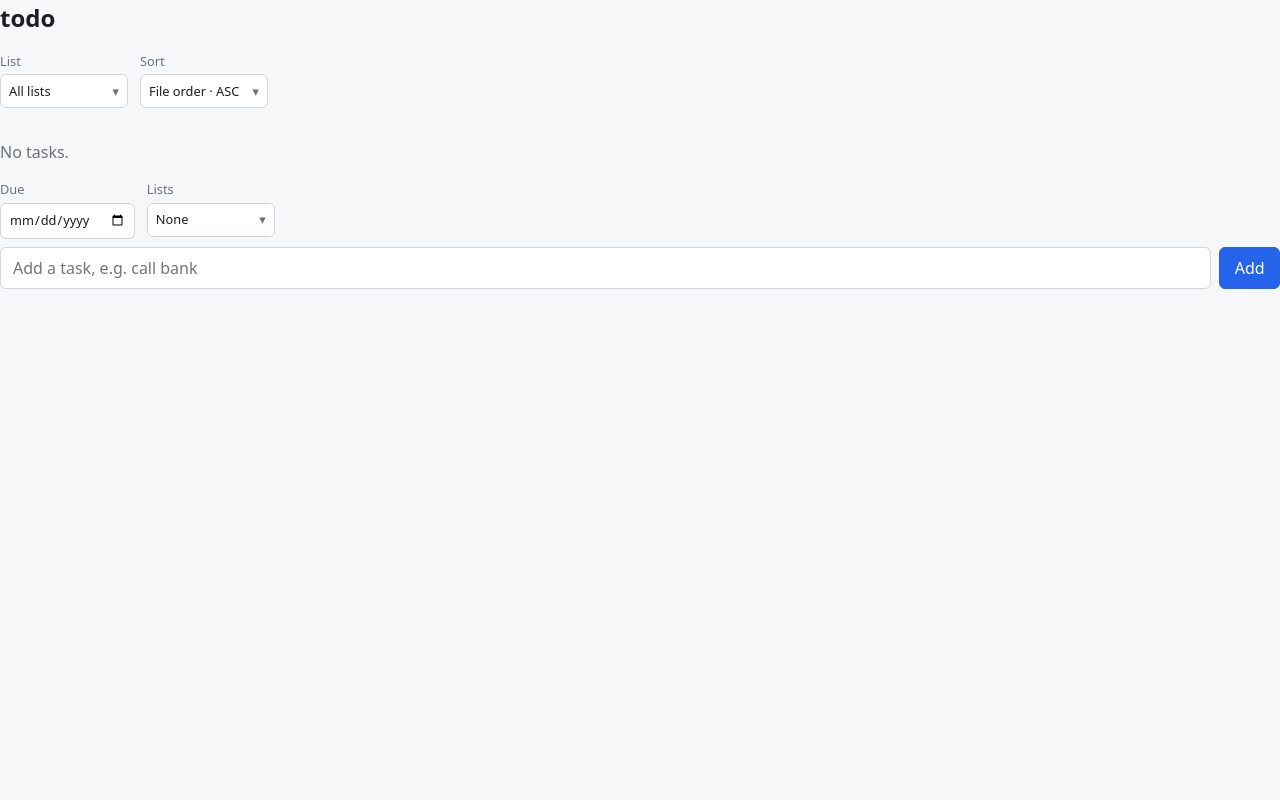
TodoPane removal glue › retains visible content when an update fails
The image size is (1280, 800).
Click the button with aria-label "list filter": (64, 91) top-left (0, 74), bottom-right (128, 108)
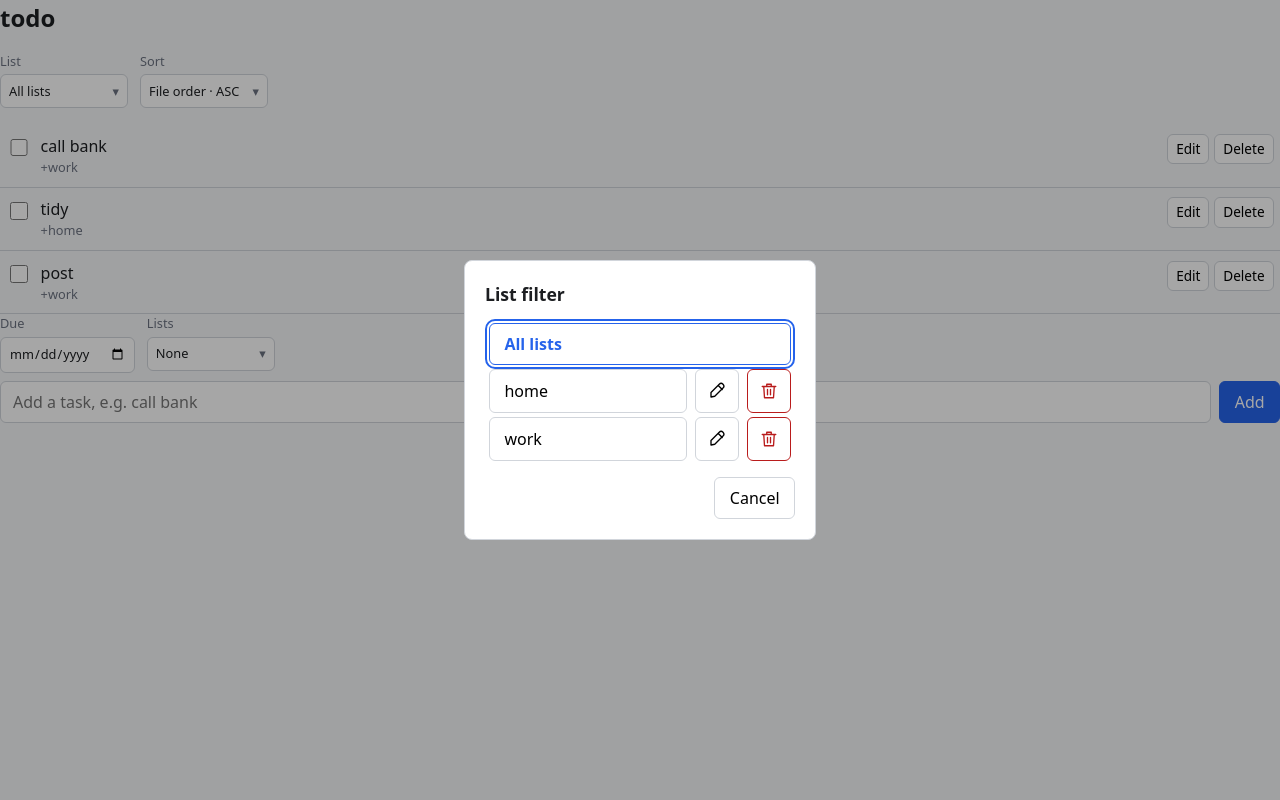
Click the button named "Remove work": (769, 439) top-left (747, 417), bottom-right (791, 461)
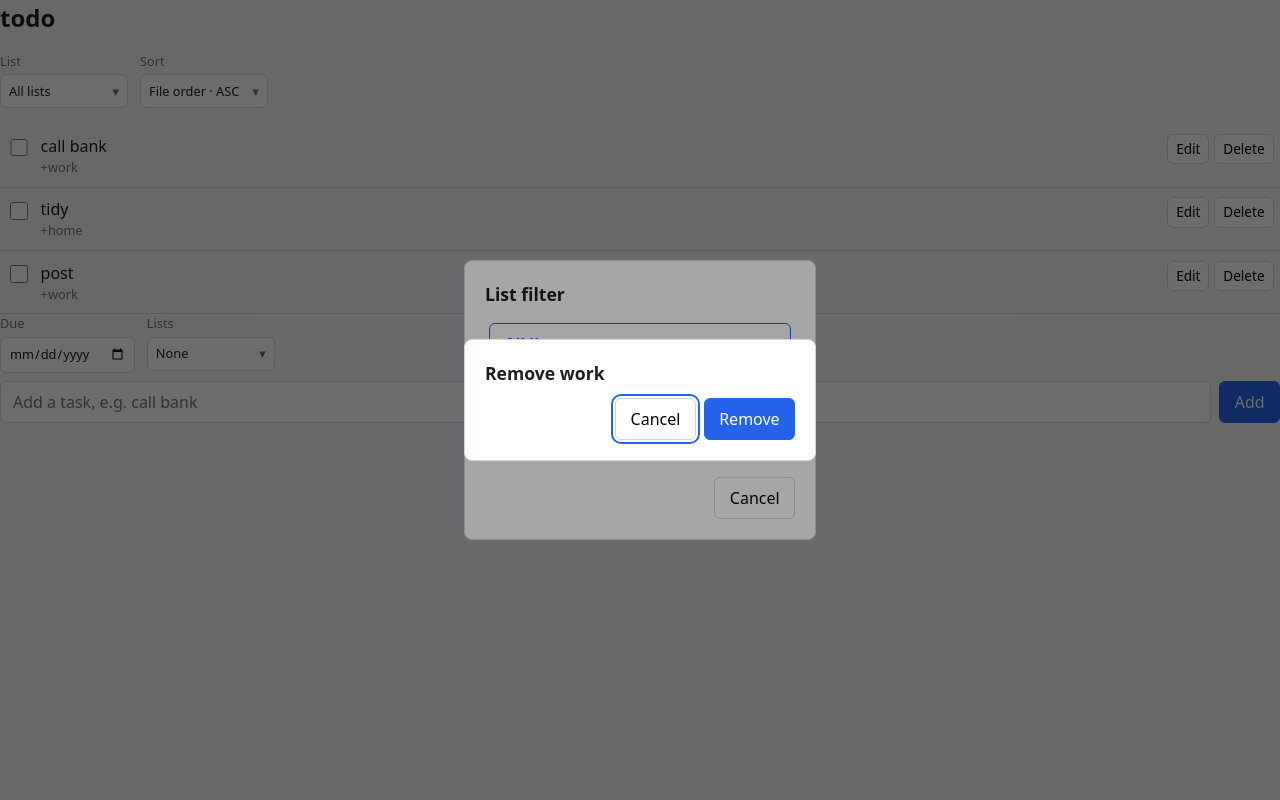
Click the button "Remove": (749, 419) top-left (704, 398), bottom-right (795, 440)
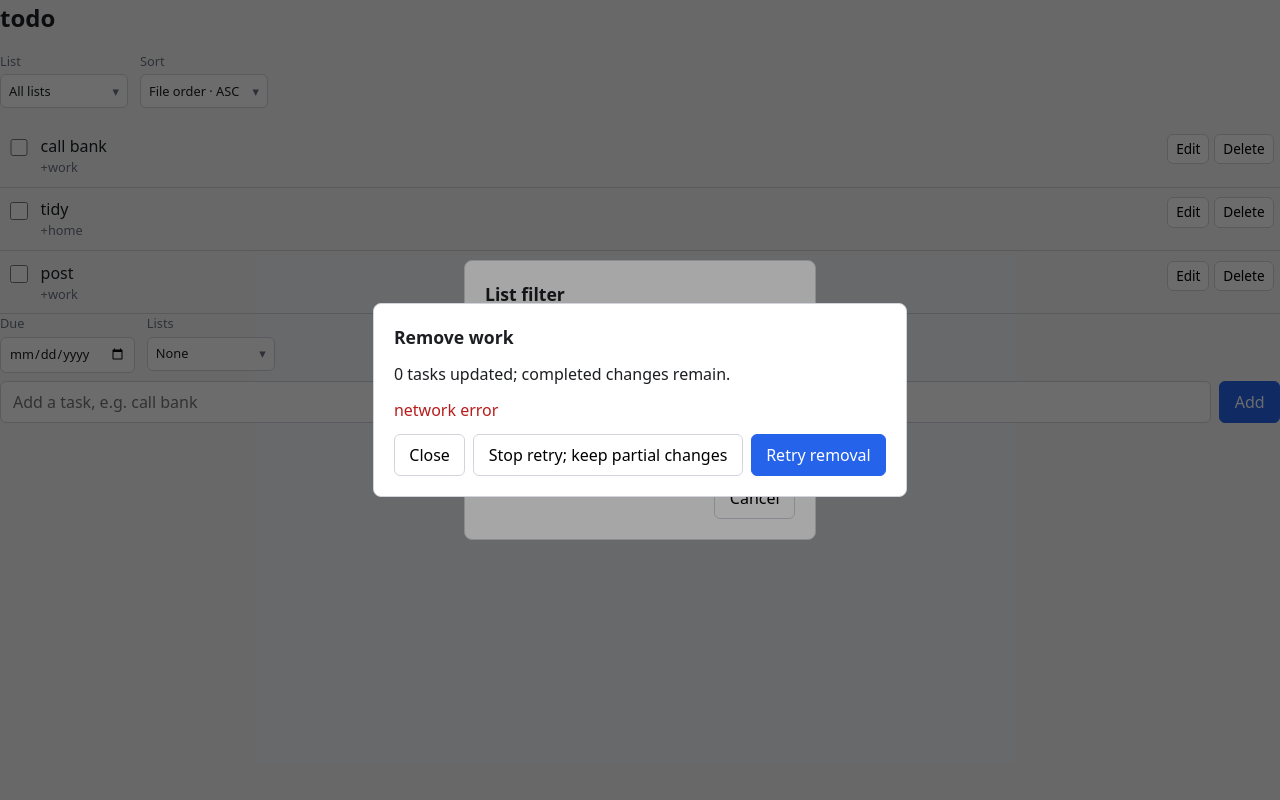
Check: the list with id "tasks" shows "call bank", box top-left (41, 135), bottom-right (107, 157)
Check: the message "network error" is shown, box top-left (394, 399), bottom-right (498, 421)
